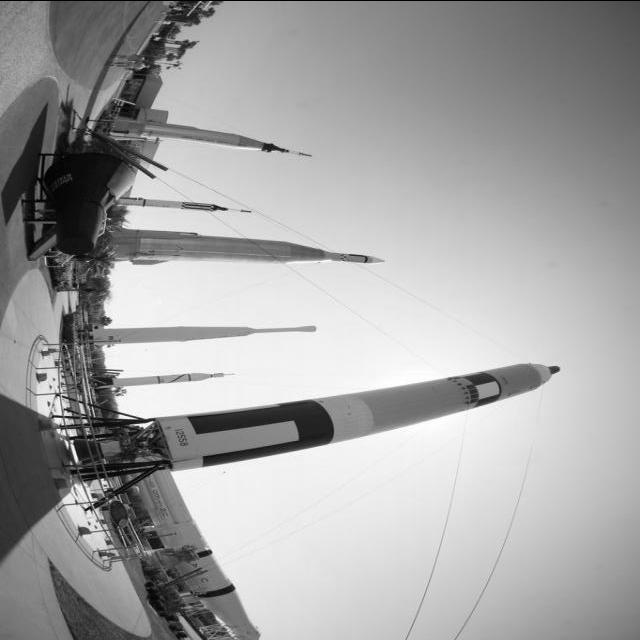missile: (117, 358, 563, 486), (98, 230, 384, 264), (108, 118, 326, 161), (94, 370, 232, 386), (108, 197, 234, 213)
